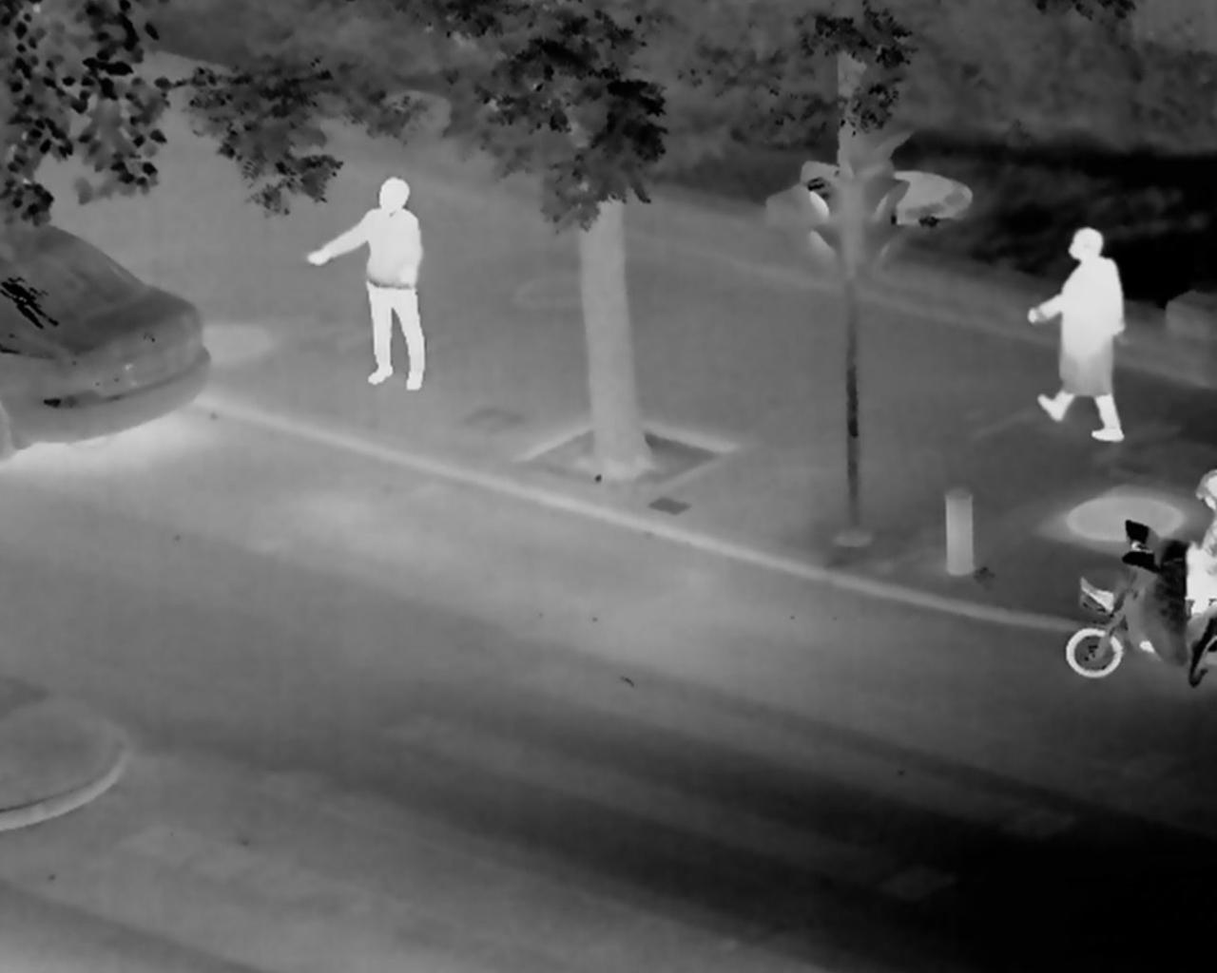person: (315, 167, 458, 389), (1021, 215, 1145, 455), (1180, 453, 1217, 609)
